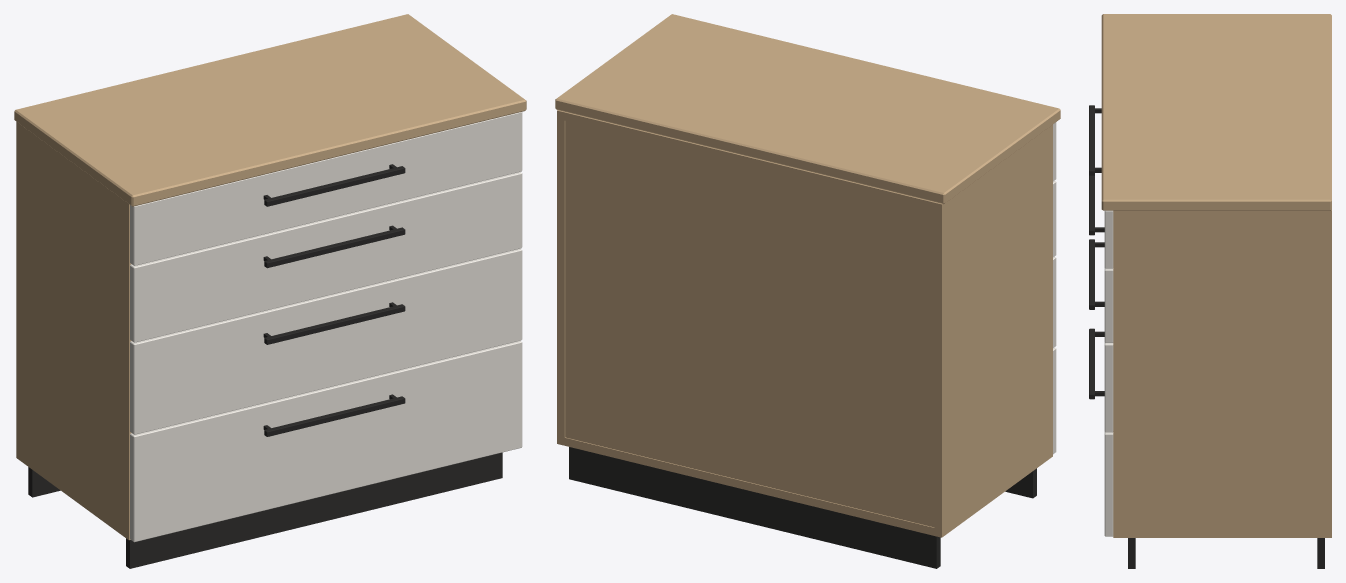
The model's file is 11_komoda_90_gradient.glb.
3 renders of one model, left to right at view 1: azimuth 30°, elevation 25°; view 2: azimuth 150°, elevation 25°; view 3: azimuth 270°, elevation 25°, orthographic. The views are drawn at different scales.
Parts seen in each view (by area): view 1: Wierzch, Front_szuflada_4, Korpus, Front_szuflada_3, Front_szuflada_2, Front_szuflada_1, Cokol, Uchwyty; view 2: Korpus, Wierzch, Cokol; view 3: Korpus, Wierzch, Uchwyty, Front_szuflada_4, Front_szuflada_3, Front_szuflada_2, Front_szuflada_1, Cokol.
Boxes of the visible parts, <box> form: Wierzch: <box>14,14,526,206</box>; Front_szuflada_4: <box>130,341,522,542</box>; Korpus: <box>16,122,131,540</box>; Front_szuflada_3: <box>130,248,522,434</box>; Front_szuflada_2: <box>130,172,522,342</box>; Front_szuflada_1: <box>130,112,522,265</box>; Cokol: <box>28,452,502,568</box>; Uchwyty: <box>263,164,405,436</box>; Korpus: <box>557,110,1052,537</box>; Wierzch: <box>555,14,1060,203</box>; Cokol: <box>569,447,1036,568</box>; Korpus: <box>1113,209,1331,537</box>; Wierzch: <box>1101,14,1331,210</box>; Uchwyty: <box>1089,105,1104,399</box>; Front_szuflada_4: <box>1104,432,1113,536</box>; Front_szuflada_3: <box>1104,342,1113,432</box>; Front_szuflada_2: <box>1104,268,1113,342</box>; Front_szuflada_1: <box>1104,210,1113,268</box>; Cokol: <box>1128,538,1324,568</box>.
Size of the model in its own units: 0.912 by 0.85 by 0.5.
